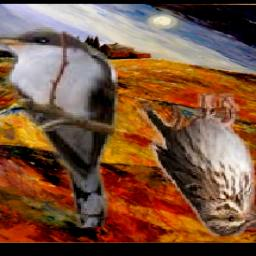Cuckoo: (0, 27, 120, 227)
Sparrow: (136, 94, 256, 237)
